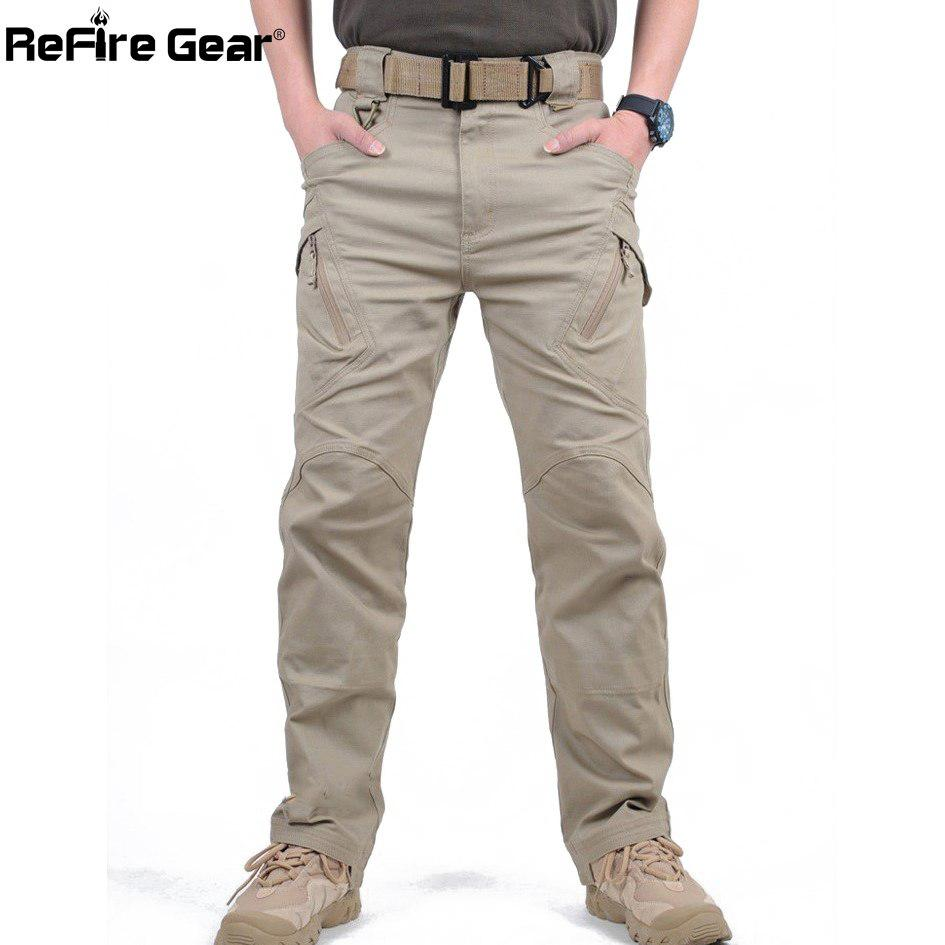pants: (274, 57, 669, 876)
